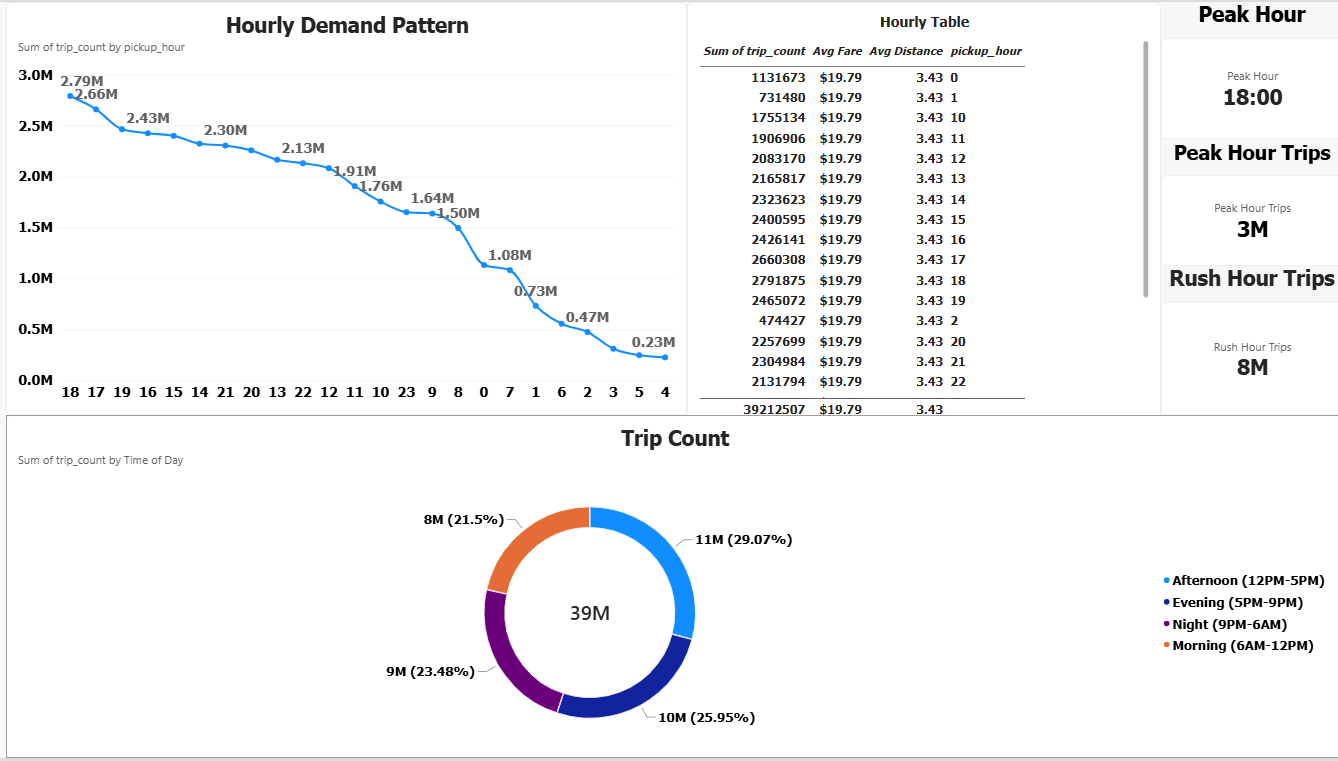

The dashboard page shown, as its layout file describes it:
{"tool":"powerbi","page":{"name":"Hourly Analysis","canvas":[1920,1080],"ordinal":1},"visuals":[{"type":"lineChart","title":"Hourly Demand Pattern","fields":{"Category":["Hourly.pickup_hour"],"Y":["Sum(Hourly.trip_count)"]},"box":[10,0,973.3,590],"z":0},{"type":"tableEx","title":"Hourly Table","fields":{"Values":["Sum(Hourly.trip_count)","_Measures.Avg Fare","_Measures.Avg Distance","Hourly.pickup_hour"]},"box":[983.3,0,676.7,613.3],"z":1},{"type":"donutChart","title":"Trip Count","fields":{"Category":["Hourly.Time of Day"],"Y":["Sum(Hourly.trip_count)"]},"box":[10,590,1910,490],"z":2},{"type":"cardVisual","title":"Peak Hour","fields":{"Data":["_Measures.Peak Hour"]},"box":[1660,0,260,196.7],"z":3},{"type":"cardVisual","title":"Peak Hour Trips","fields":{"Data":["_Measures.Peak Hour Trips"]},"box":[1660,196.7,260,180],"z":4},{"type":"cardVisual","title":"Rush Hour Trips","fields":{"Data":["_Measures.Rush Hour Trips"]},"box":[1660,376.7,260,213.3],"z":5}]}

Visuals, with their boxes in screenshot pixels (x1, y1, x2, y2), scaled from the page's 1920x1080 canvas onto the 1338x761 screenshot:
"Hourly Demand Pattern" lineChart: [7,0,685,416]
"Hourly Table" tableEx: [685,0,1157,432]
"Trip Count" donutChart: [7,416,1337,760]
"Peak Hour" cardVisual: [1157,0,1337,139]
"Peak Hour Trips" cardVisual: [1157,139,1337,265]
"Rush Hour Trips" cardVisual: [1157,265,1337,416]
